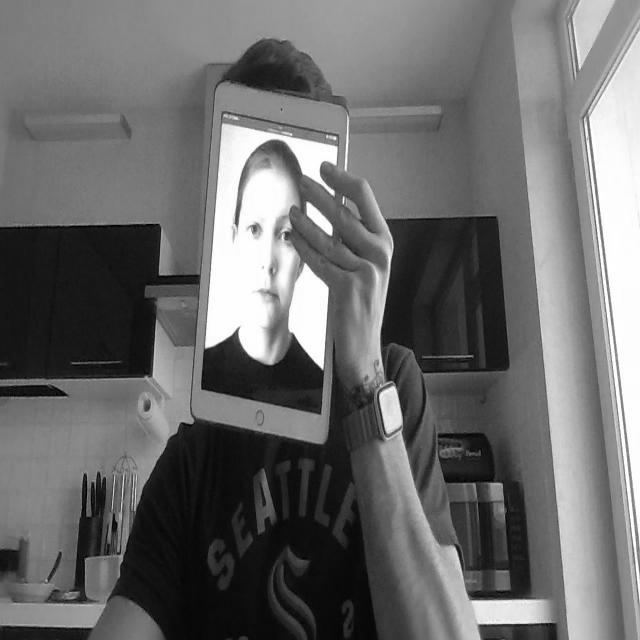fake: (189, 74, 352, 464)
